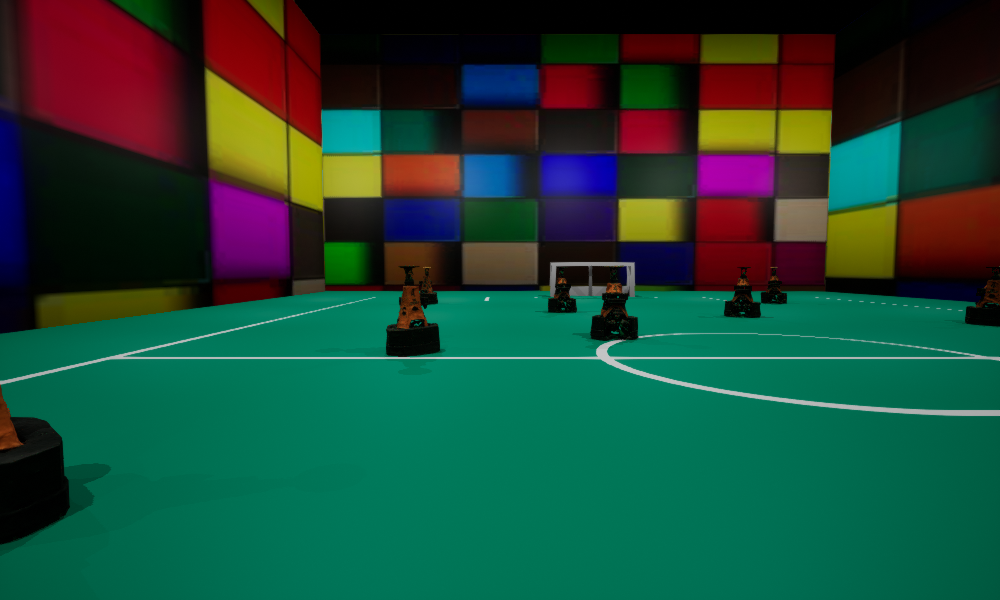0 orange robot TechUnited: (0, 385, 69, 543), (386, 265, 439, 356), (590, 266, 637, 340), (965, 266, 999, 326), (724, 267, 760, 316), (548, 267, 576, 312), (761, 267, 786, 303), (419, 267, 437, 303)
